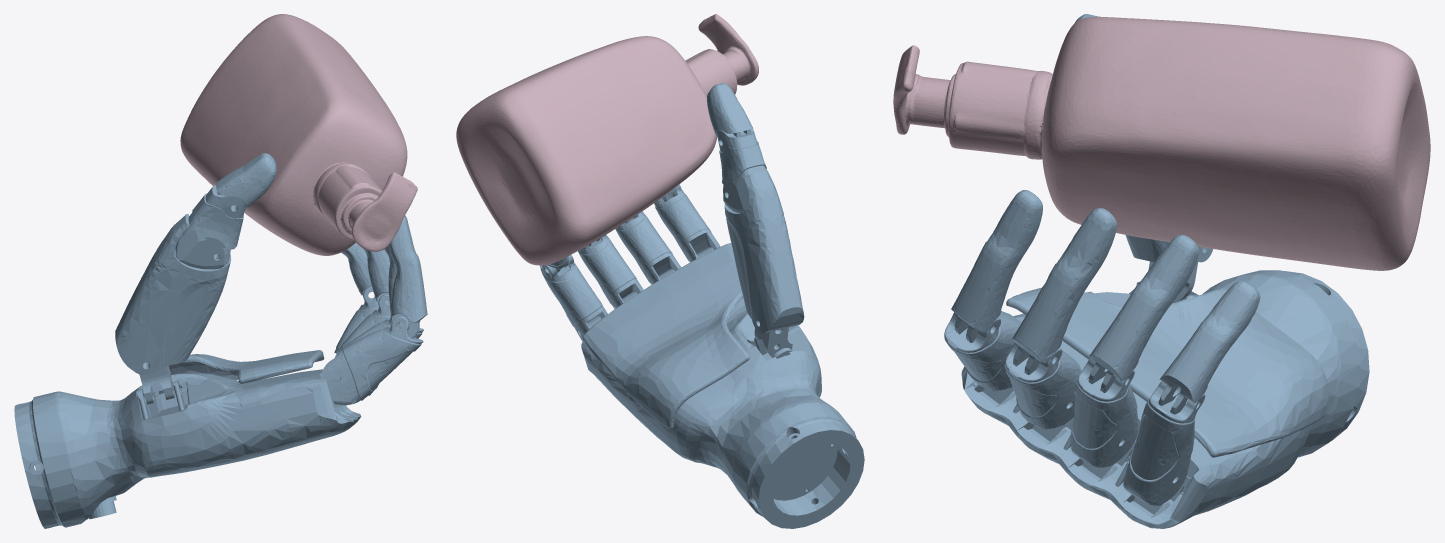
3 views of the same model, side by side, from view 1: azimuth 30°, elevation 25°; view 2: azimuth 150°, elevation 25°; view 3: azimuth 270°, elevation 25° (orthographic). The views are drawn at different scales.
Parts seen in each view (by area): view 1: world, obj_mesh_grasp_15.obj; view 2: world, obj_mesh_grasp_15.obj; view 3: obj_mesh_grasp_15.obj, world.
Boxes of the visible parts, <box> form: world: <box>14,153,427,528</box>; obj_mesh_grasp_15.obj: <box>180,14,417,255</box>; world: <box>540,83,864,528</box>; obj_mesh_grasp_15.obj: <box>456,14,758,265</box>; obj_mesh_grasp_15.obj: <box>893,16,1430,270</box>; world: <box>944,14,1369,528</box>.
Bounding box in the file's own units: 0.1753 × 0.1879 × 0.1535.
